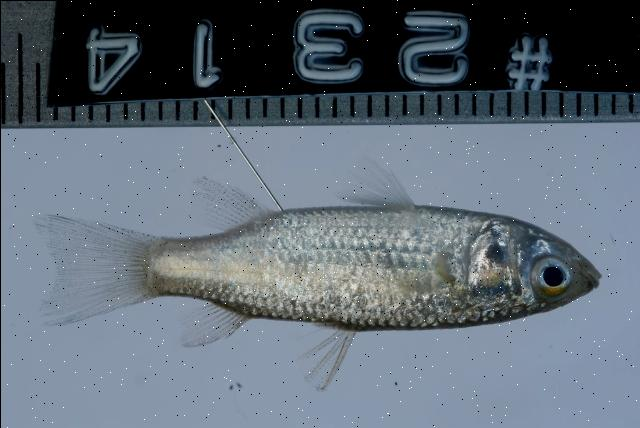Mulut: (562, 250, 608, 294)
Sirip Anal: (180, 168, 276, 248)
Sirip Dada: (390, 243, 472, 307)
Sirip Ekor: (19, 208, 150, 330)
Sirip Perut: (324, 153, 422, 217)
Sirip Punggung: (174, 294, 368, 400)
